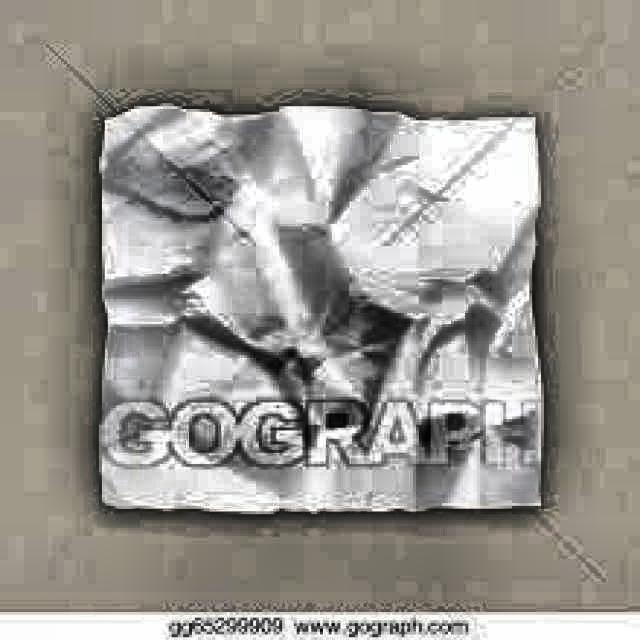Paper: (96, 101, 544, 509)
